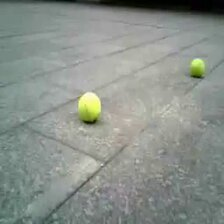tennis: (78, 93, 100, 119), (189, 58, 206, 75)
